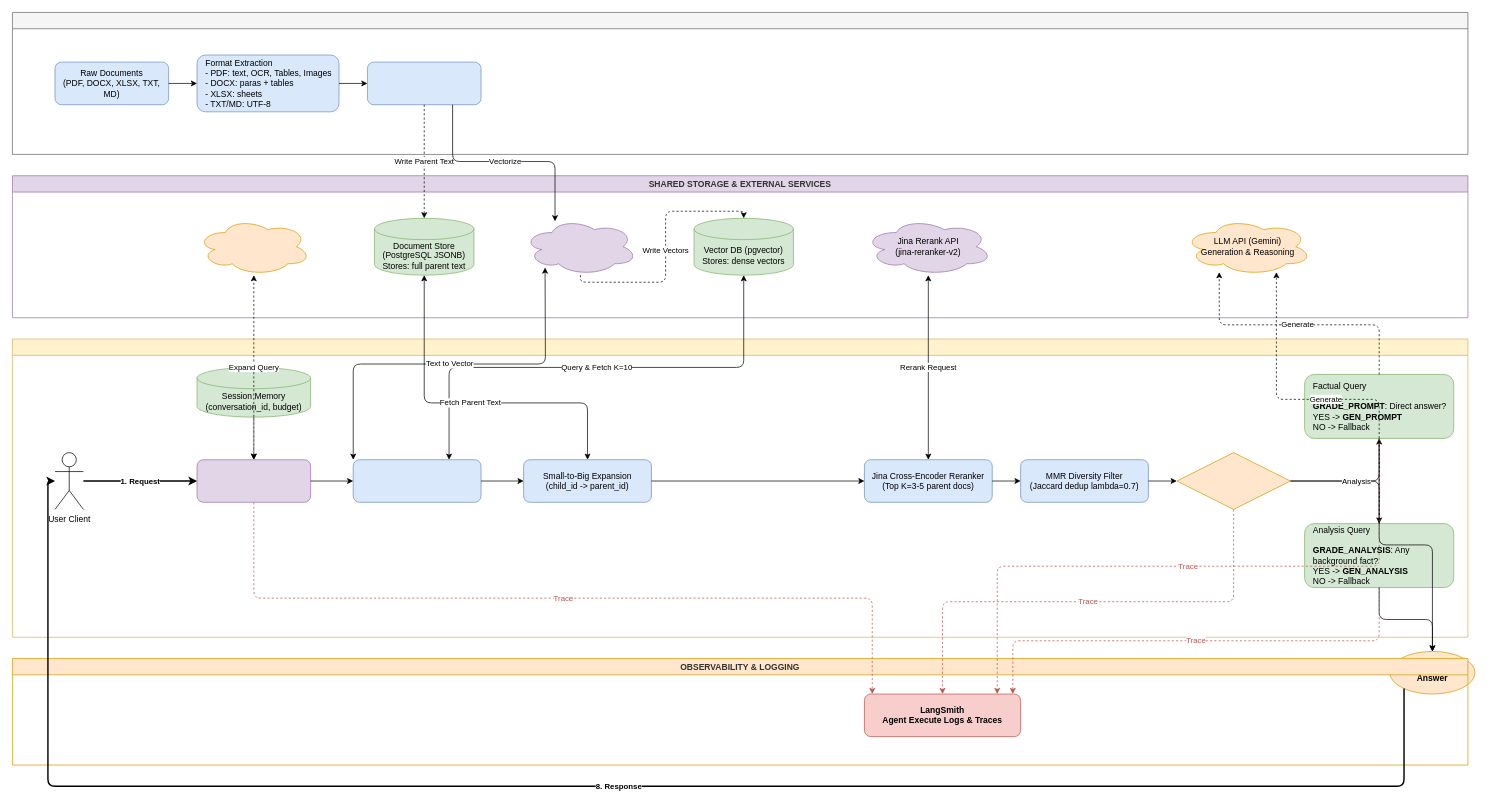
This 1487x805 diagram has some shape labels left out. Here are the shapes that lost their labels. From the top down, the box of each, then its label:
(367, 61, 481, 105): Jina Semantic Segmenter (Chunking)
(12, 12, 1468, 154): DATA INGESTION PIPELINE
(196, 218, 311, 275): LLM API (For Rephrasing)
(523, 218, 637, 275): Vertex AI Embeddings (text-embedding-004)
(196, 459, 311, 502): Query Expansion (LLM 2 rephrasings)
(353, 459, 481, 502): pgvector similarity search (Top K=10 child chunks)
(12, 338, 1468, 637): RETRIEVAL & GENERATION PIPELINE
(1176, 452, 1290, 509): Query Type Detector (_is_analysis_query)
